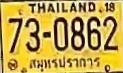0: (53, 16, 67, 50)
2: (103, 16, 117, 50)
3: (25, 17, 40, 51)
6: (86, 16, 100, 50)
7: (8, 17, 22, 53)
8: (70, 16, 84, 50)
SPK: (27, 54, 103, 72)
